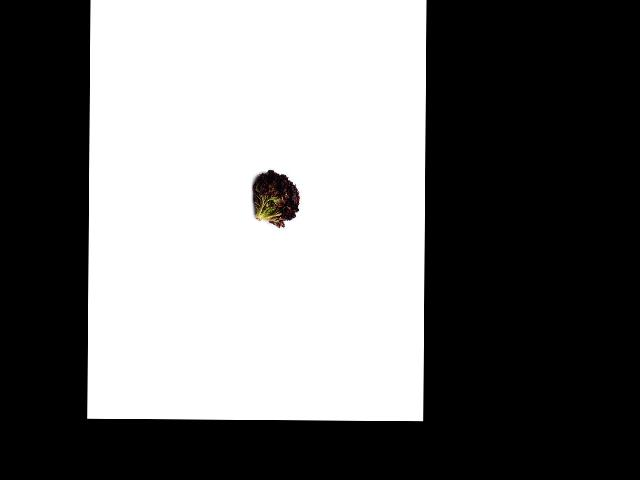lettuce: (249, 167, 301, 224)
